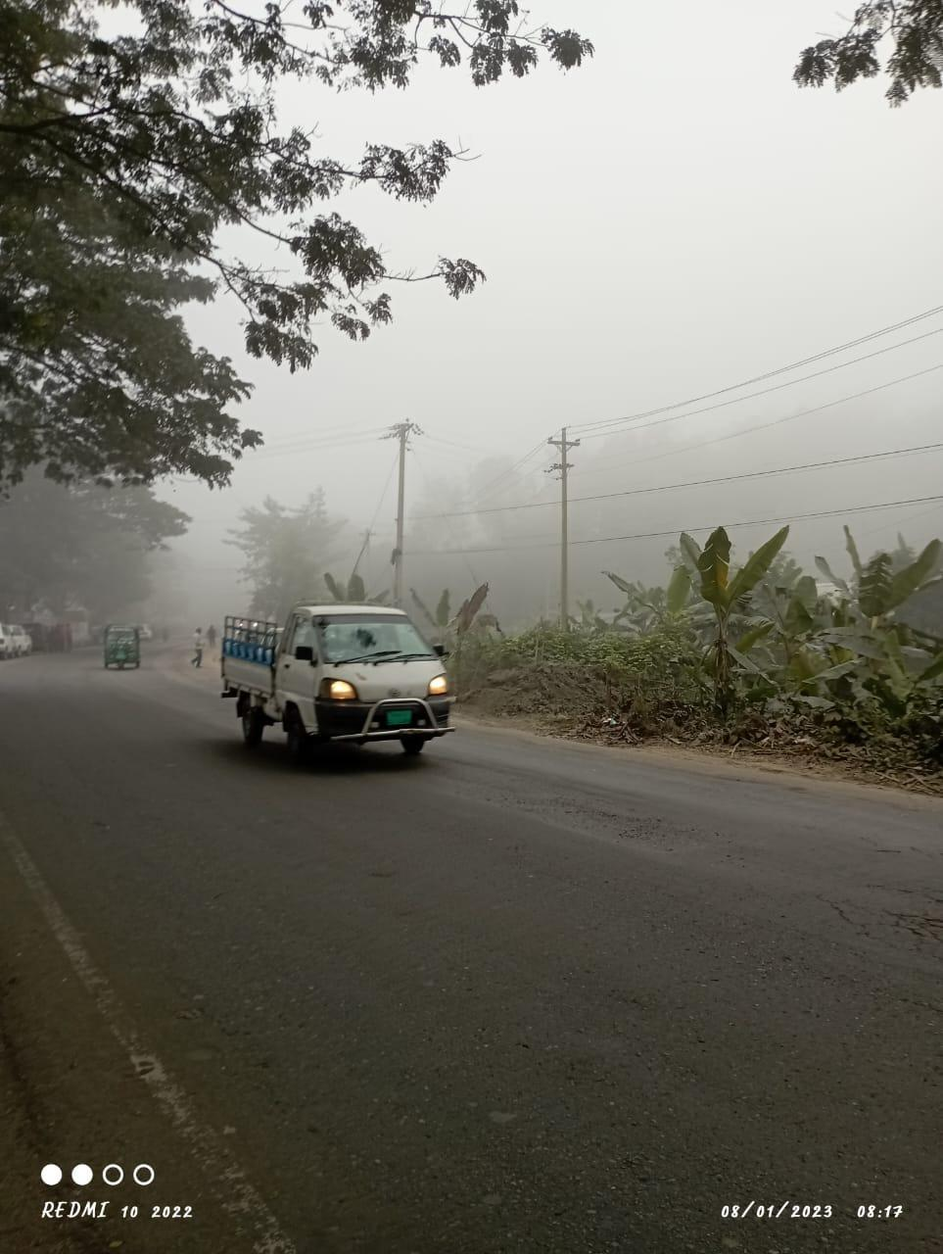Truck: (212, 603, 463, 775)
